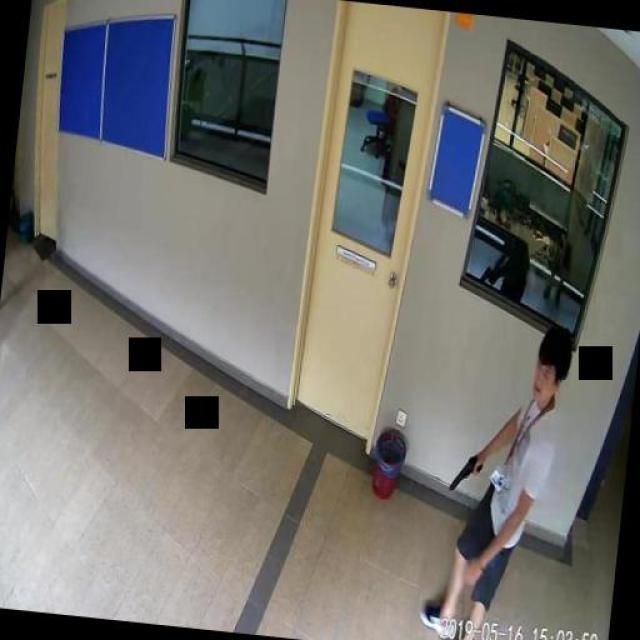gun: (448, 450, 482, 490)
